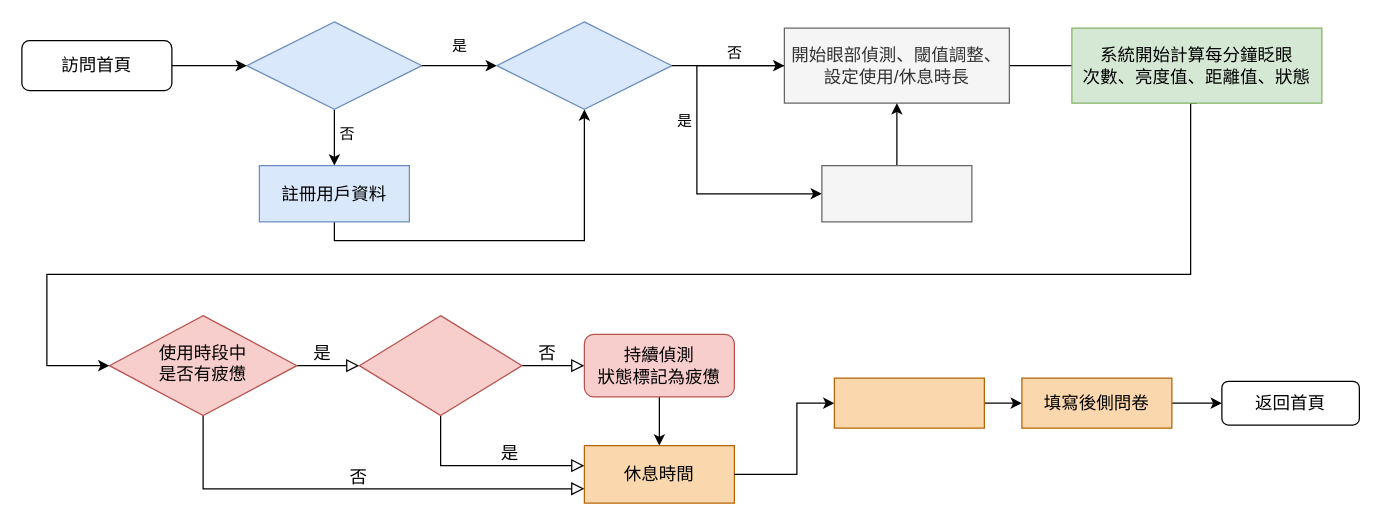
Image size: 1381x525. Some labels were removed from this diagram. The centre of each missing label's shape, as x and y in pixels:
偵測結束: the point at 908,402
是否需要 編輯使用者: the point at 584,65
用戶是否已存在: the point at 334,65
疲憊是否 需要休息: the point at 440,365
編輯用戶: the point at 896,193
